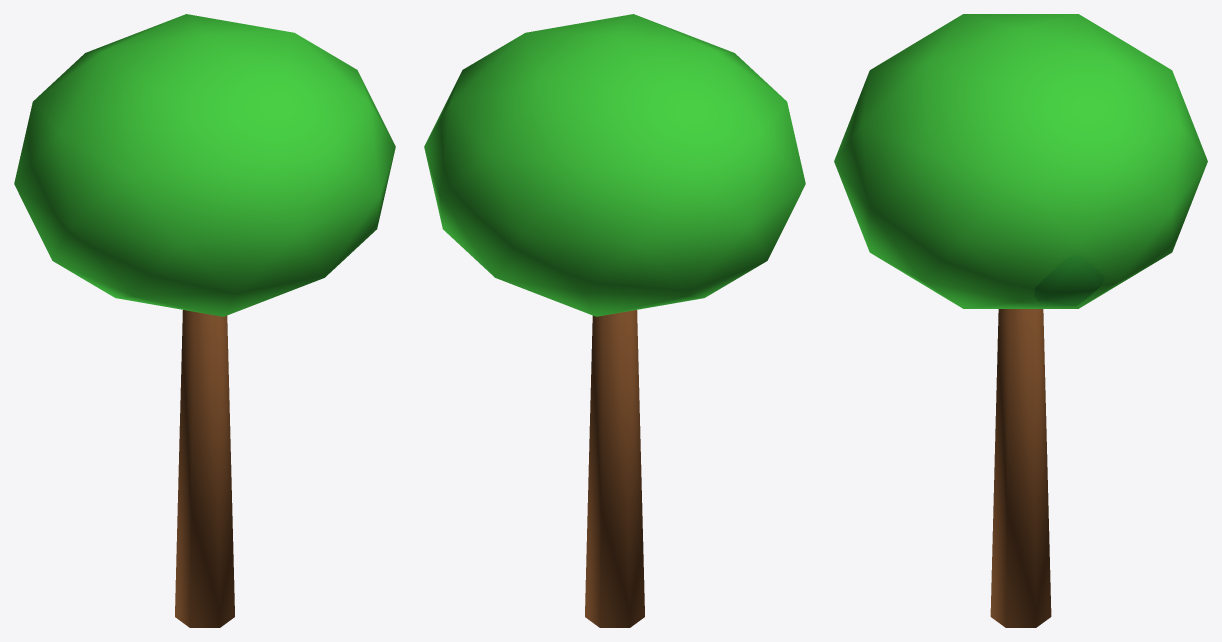
File: oak_lod.glb
3 renders of one model, left to right at view 1: azimuth 30°, elevation 25°; view 2: azimuth 150°, elevation 25°; view 3: azimuth 270°, elevation 25°, orthographic.
Parts seen in each view (by area): view 1: olod_c0, olod_trunk; view 2: olod_c0, olod_trunk; view 3: olod_c0, olod_trunk, olod_c1.
Part boxes in pixels (x1=…): olod_c0: x1=14, y1=14, x2=395, y2=316; olod_trunk: x1=175, y1=310, x2=234, y2=627; olod_c0: x1=424, y1=14, x2=805, y2=316; olod_trunk: x1=585, y1=310, x2=644, y2=627; olod_c0: x1=834, y1=14, x2=1207, y2=308; olod_trunk: x1=990, y1=309, x2=1051, y2=627; olod_c1: x1=1012, y1=255, x2=1104, y2=306.
Size of the model in its own units: 1.62 by 2.77 by 1.6.
